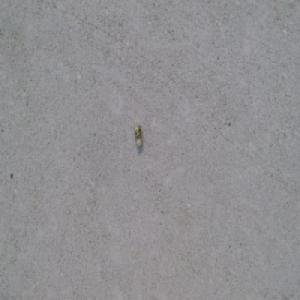BoltNutSet: (133, 124, 143, 146)
